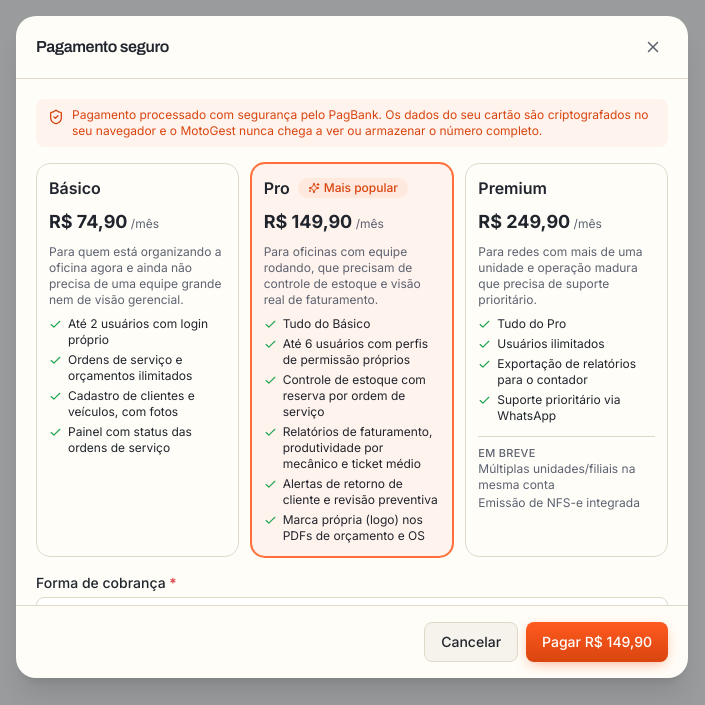
it: PagamentoCartaoModal › selects a plan by clicking its comparison card, which updates the amount charged
Click the button "Premium": (567,360) [465,163,668,557]
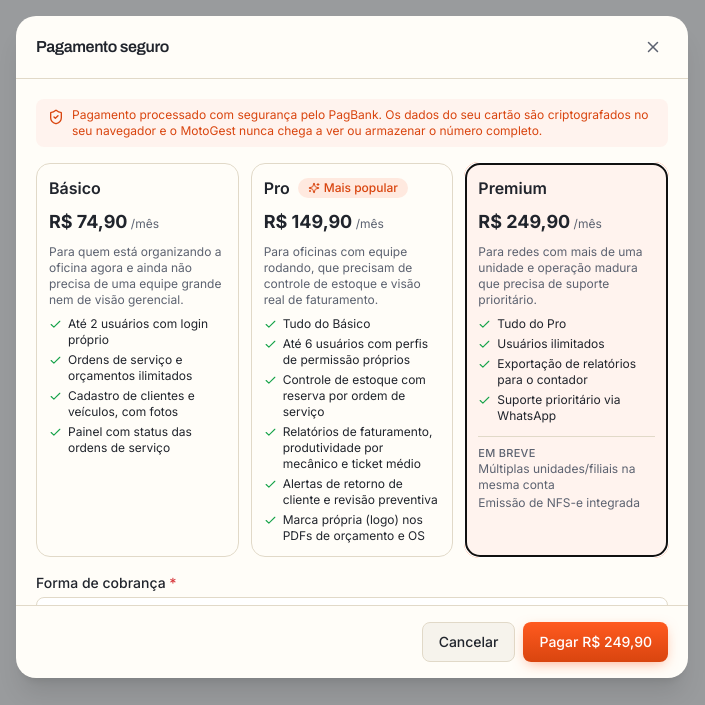
Expected: the button "Pagar R$ 249,90" is shown, [524,622,668,662]
